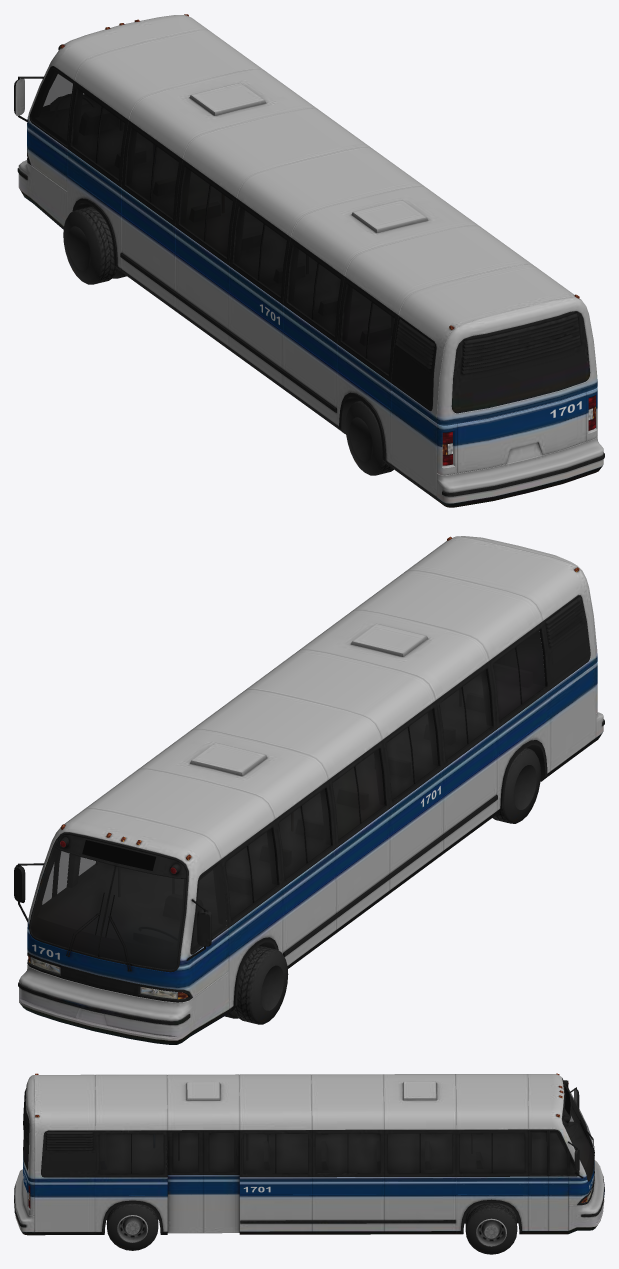
File: citybus.glb
3 renders of one model, top to bottom at view 1: azimuth 30°, elevation 25°; view 2: azimuth 150°, elevation 25°; view 3: azimuth 270°, elevation 25°, orthographic. The views are drawn at different scales.
Parts seen in each view (by area): view 1: citybus, wheel_1, wheel_2; view 2: citybus, wheel_1, wheel_2; view 3: citybus, wheel_3, wheel_0.
Part boxes in pixels (x1,y1,x2,y2): citybus: (14, 14, 604, 507); wheel_1: (63, 206, 126, 284); wheel_2: (345, 400, 393, 475); citybus: (14, 536, 604, 1044); wheel_1: (224, 946, 288, 1024); wheel_2: (492, 748, 540, 823); citybus: (14, 1073, 604, 1235); wheel_3: (465, 1203, 517, 1254); wheel_0: (106, 1203, 158, 1250).
Size of the model in its own units: 2.65 by 2.63 by 10.4.
Materials: 5 (4 with a texture image).
